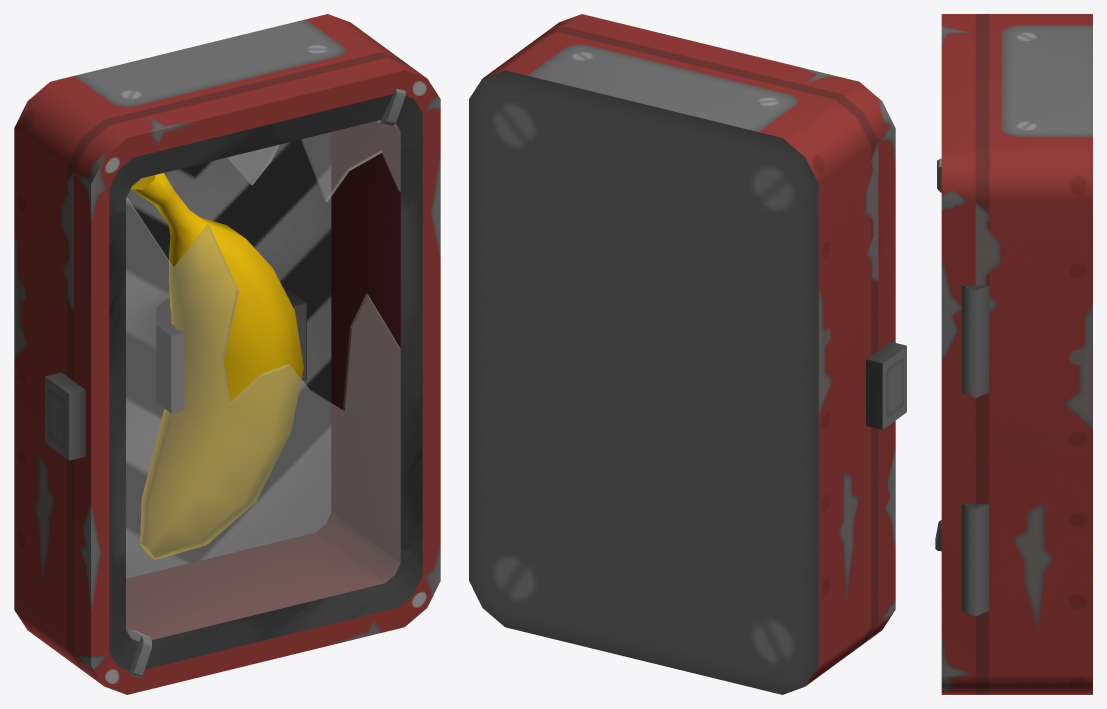
File: obj_building_bananabox.fbx
3 renders of one model, left to right at view 1: azimuth 30°, elevation 25°; view 2: azimuth 150°, elevation 25°; view 3: azimuth 270°, elevation 25°, orthographic.
Visible parts, largest first — view 1: polySurface1872; view 2: polySurface1872; view 3: polySurface1872.
Boxes of the visible parts, x1,y1,x2,y2 form: polySurface1872: [14, 14, 440, 694]; polySurface1872: [469, 14, 906, 694]; polySurface1872: [935, 14, 1092, 694].
Bounding box in the file's own units: 2.85 × 4 × 1.04.
